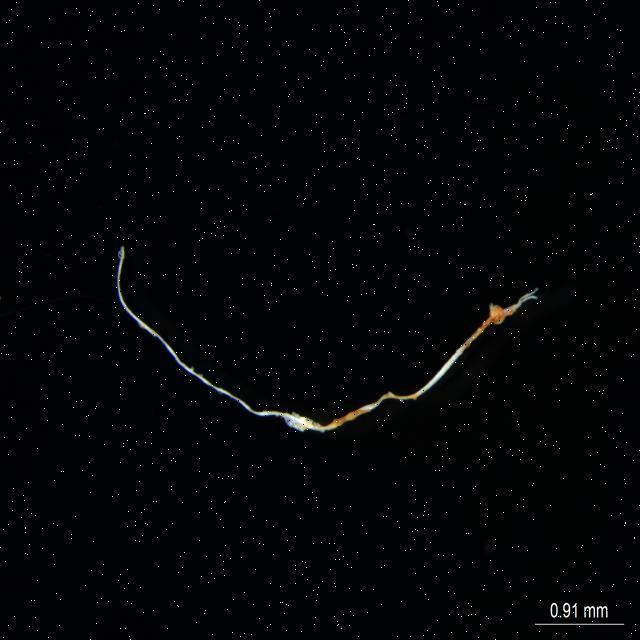Fibre: (116, 242, 540, 438)
